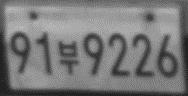1: (35, 31, 52, 76)
2: (107, 32, 131, 77), (132, 33, 154, 78)
6: (155, 32, 179, 78)
9: (9, 31, 31, 74), (83, 32, 104, 77)
부: (56, 39, 81, 75)
